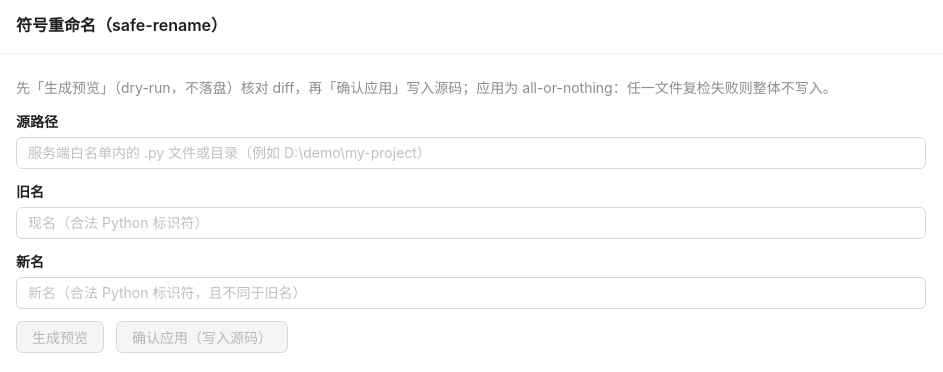
Test: RenameTool › 空表单：生成预览禁用、确认应用（未预览）禁用；填齐后仅预览可用
This screenshot has width=943, height=372.
Check: the button "生成预览" is disabled, box [16,321,104,353]
Check: the button "确认应用（写入源码）" is disabled, box [116,321,288,353]
Type "D:\\demo\\my-project" into the field with placeholder "服务端白名单内的 .py 文件或目录（例如 D:\\demo\\my-project）" at (463, 153), box [28,142,898,164]
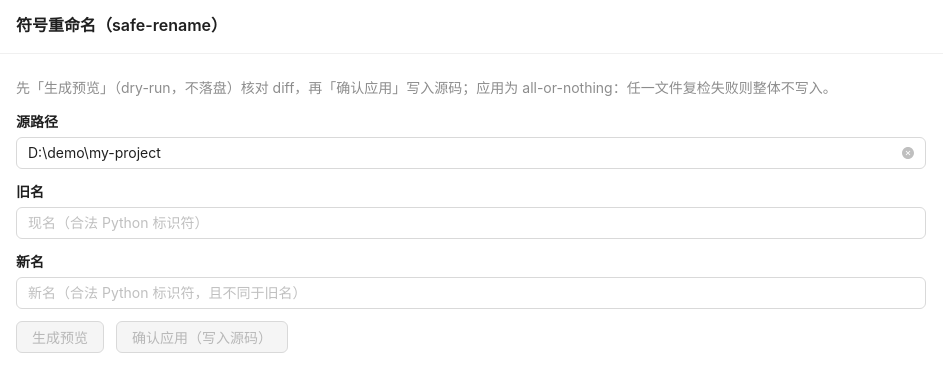
Type "old_name" into the field with placeholder "现名（合法 Python 标识符）" at (463, 223), box [28,212,898,234]
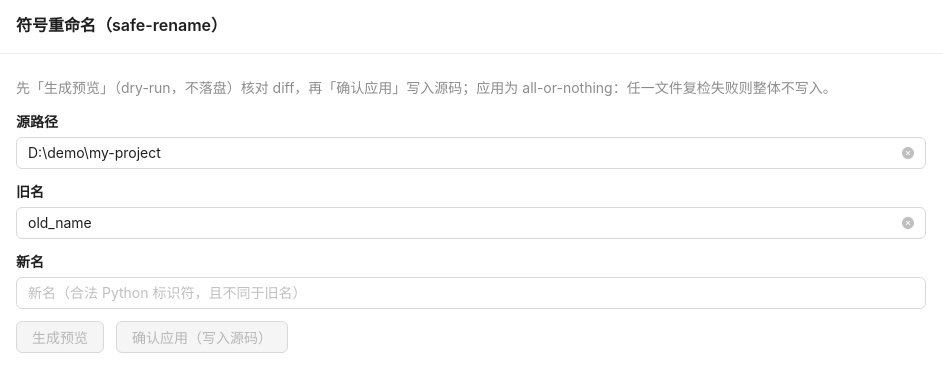
Type "new_name" into the field with placeholder "新名（合法 Python 标识符，且不同于旧名）" at (463, 293), box [28,282,898,304]
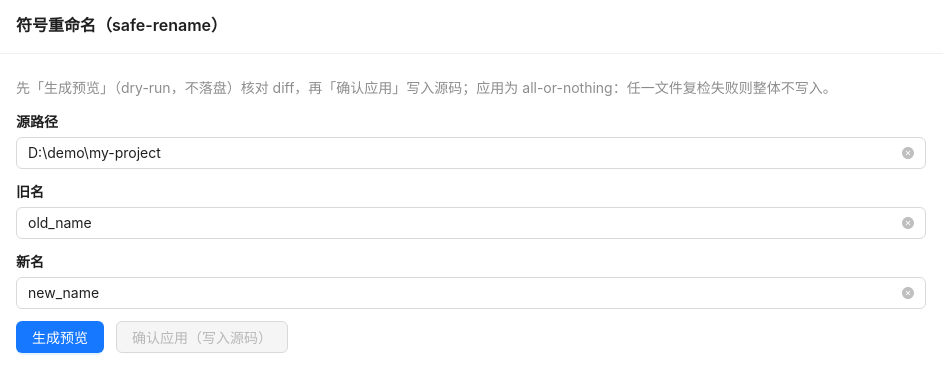
Check: the button "确认应用（写入源码）" is disabled, box [116,321,288,353]
Check: the button "生成预览" is enabled, box [16,321,104,353]
